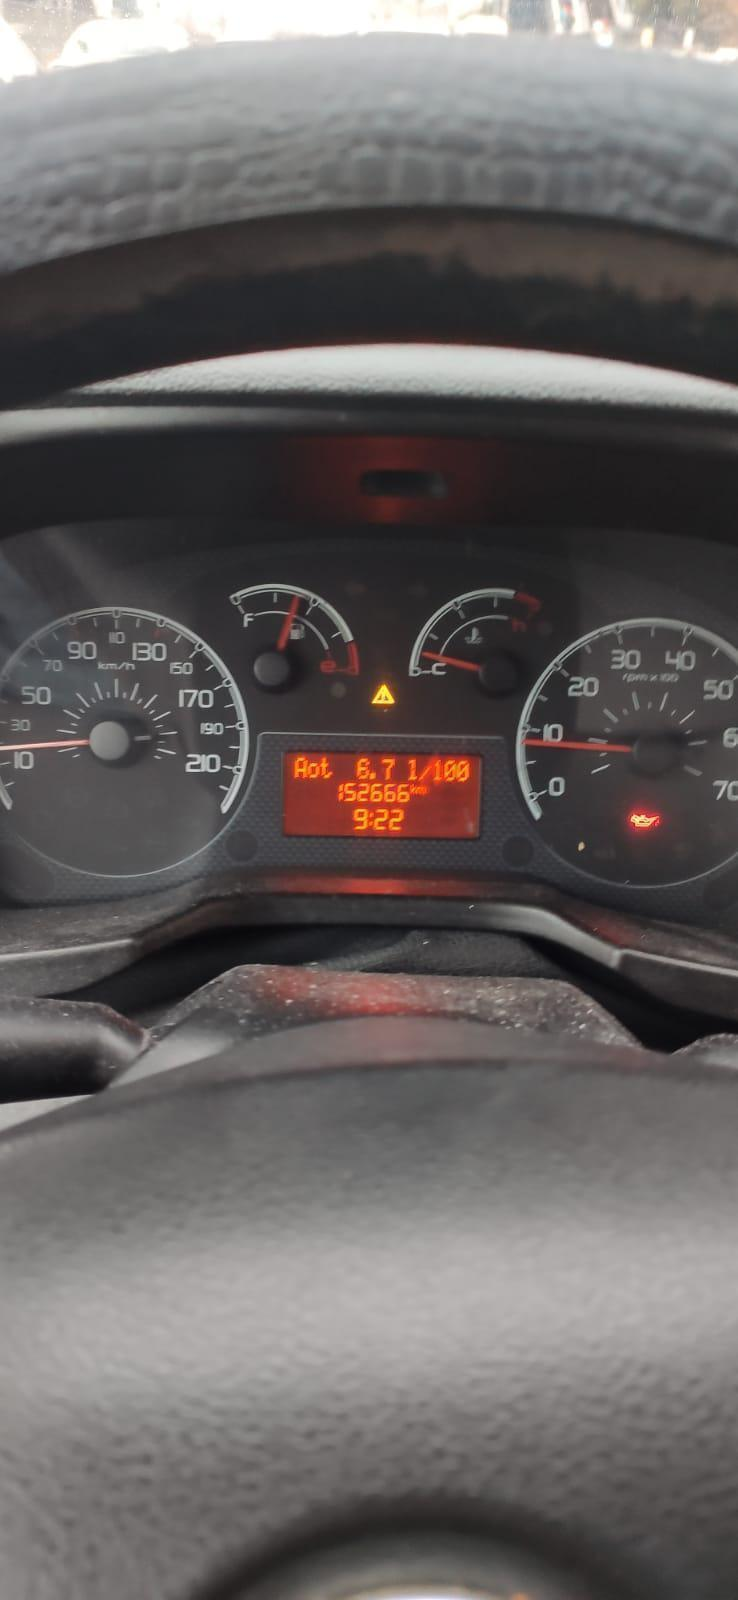,: (368, 771, 376, 780)
0: (443, 759, 456, 781), (456, 760, 469, 781)
1: (432, 759, 442, 781), (337, 783, 343, 802)
2: (388, 809, 404, 831), (373, 808, 388, 831), (356, 782, 370, 801)
5: (344, 782, 356, 802)
6: (370, 782, 383, 802), (396, 783, 409, 802), (383, 783, 396, 802)
7: (381, 758, 395, 780)
8: (355, 757, 370, 780)
9: (352, 808, 370, 830)
X: (293, 757, 308, 779), (406, 758, 419, 782), (319, 756, 333, 778), (419, 762, 431, 781), (307, 761, 319, 779), (409, 782, 416, 795), (368, 811, 375, 826), (416, 786, 427, 794)
odometer: (280, 748, 484, 841)
